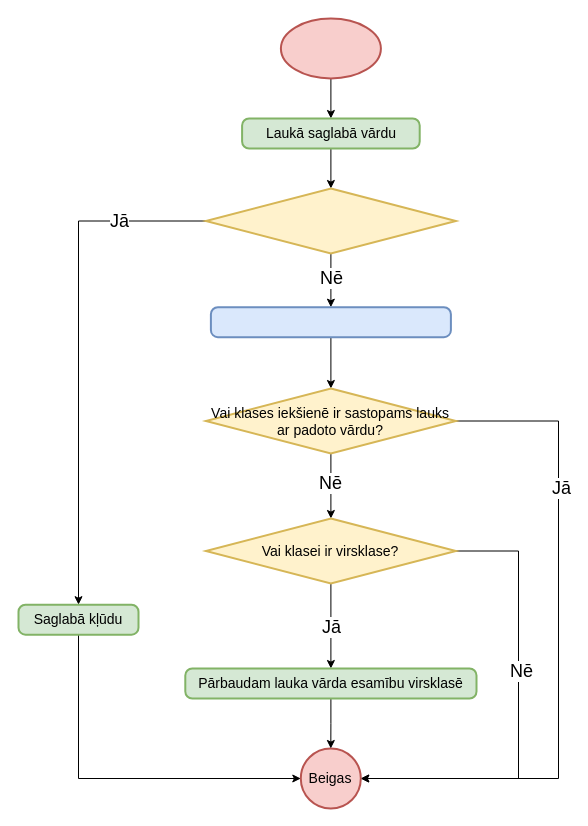
The diagram is 588 pixels wide and 826 high, and some of its shapes have lost their labels. Here are the shapes that lost their labels. From the top down, the centre of each, then its label:
At (x=330, y=48): "Sākums".
At (x=330, y=220): "Vai lauka vārds sakrīt ar klases vārdu?".
At (x=330, y=322): "Apstaigājam rezervēto vārdu sarakstu".
